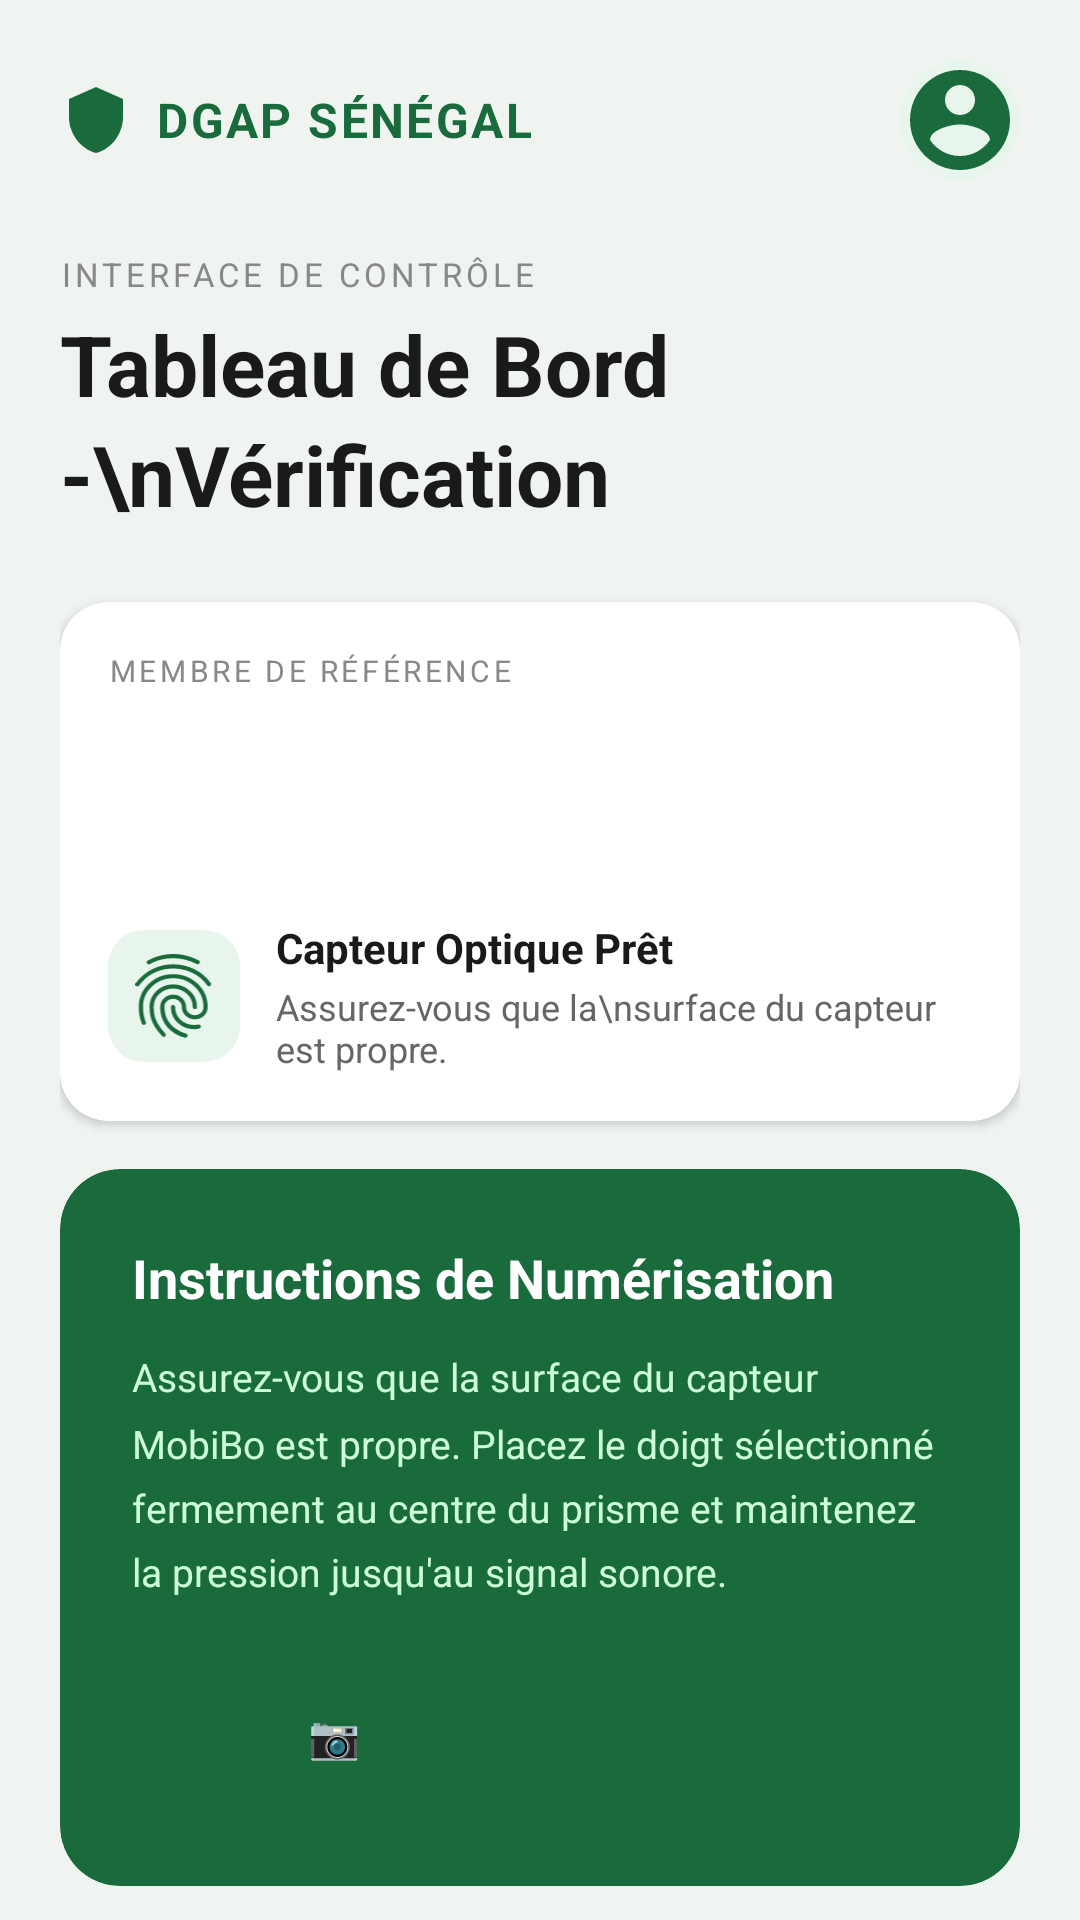

Point at icon controls on the screen. Image size 1080x1920, points as point (x, y).
profil: point (960, 120)
